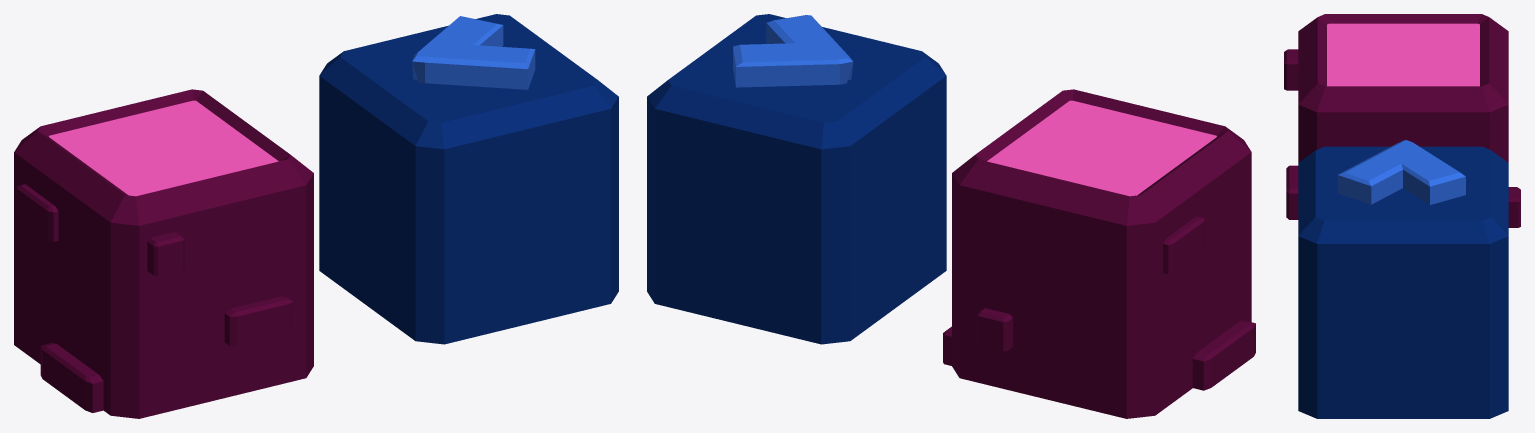
The model's file is menu_wizard.glb.
3 views of the same model, side by side, from view 1: azimuth 30°, elevation 25°; view 2: azimuth 150°, elevation 25°; view 3: azimuth 270°, elevation 25° (orthographic). The views are drawn at different scales.
Visible parts, largest first — view 1: Cube, Cube.001; view 2: Cube, Cube.001; view 3: Cube.001, Cube.
Boxes of the visible parts, x1=… form: Cube: x1=14, y1=89, x2=313, y2=418; Cube.001: x1=319, y1=14, x2=618, y2=344; Cube: x1=943, y1=89, x2=1255, y2=418; Cube.001: x1=647, y1=14, x2=946, y2=344; Cube.001: x1=1298, y1=140, x2=1508, y2=418; Cube: x1=1284, y1=14, x2=1520, y2=227.
Bounding box in the file's own units: 5.14 × 2.22 × 2.25.
Materials: 1 (1 with a texture image).
